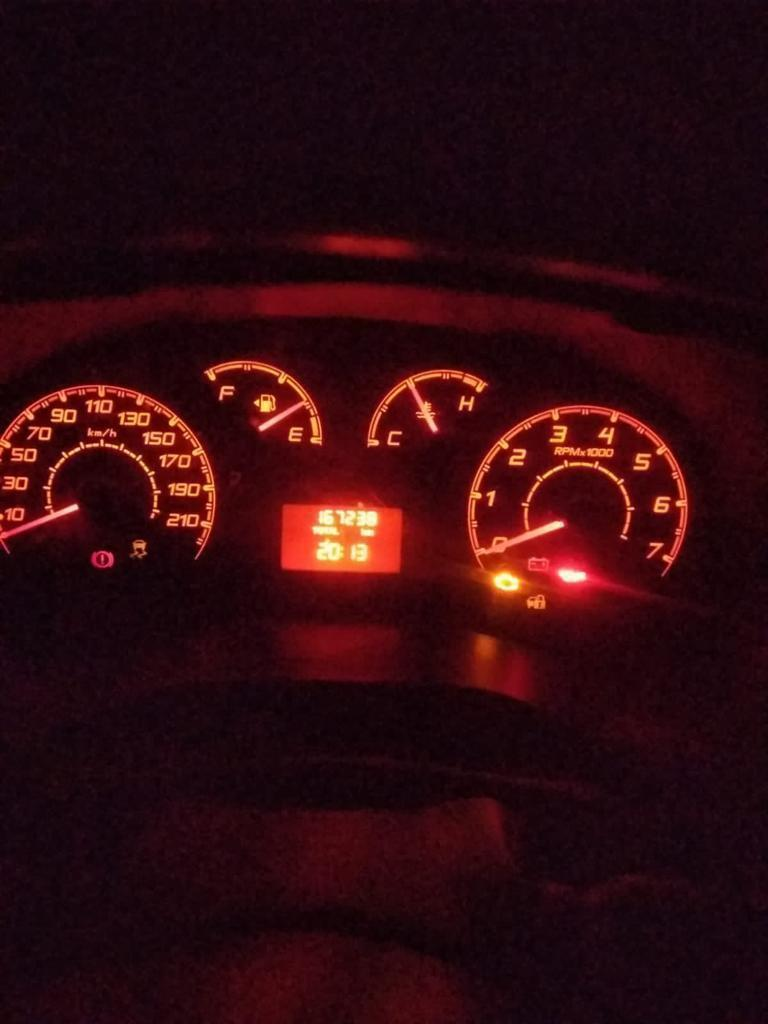0: (327, 542, 340, 560)
1: (350, 544, 355, 560), (318, 510, 323, 524)
2: (315, 541, 327, 560), (345, 510, 355, 526)
3: (356, 543, 367, 560), (355, 510, 366, 526)
6: (323, 509, 334, 524)
7: (334, 509, 344, 524)
8: (366, 510, 377, 526)
odometer: (279, 501, 406, 574)
